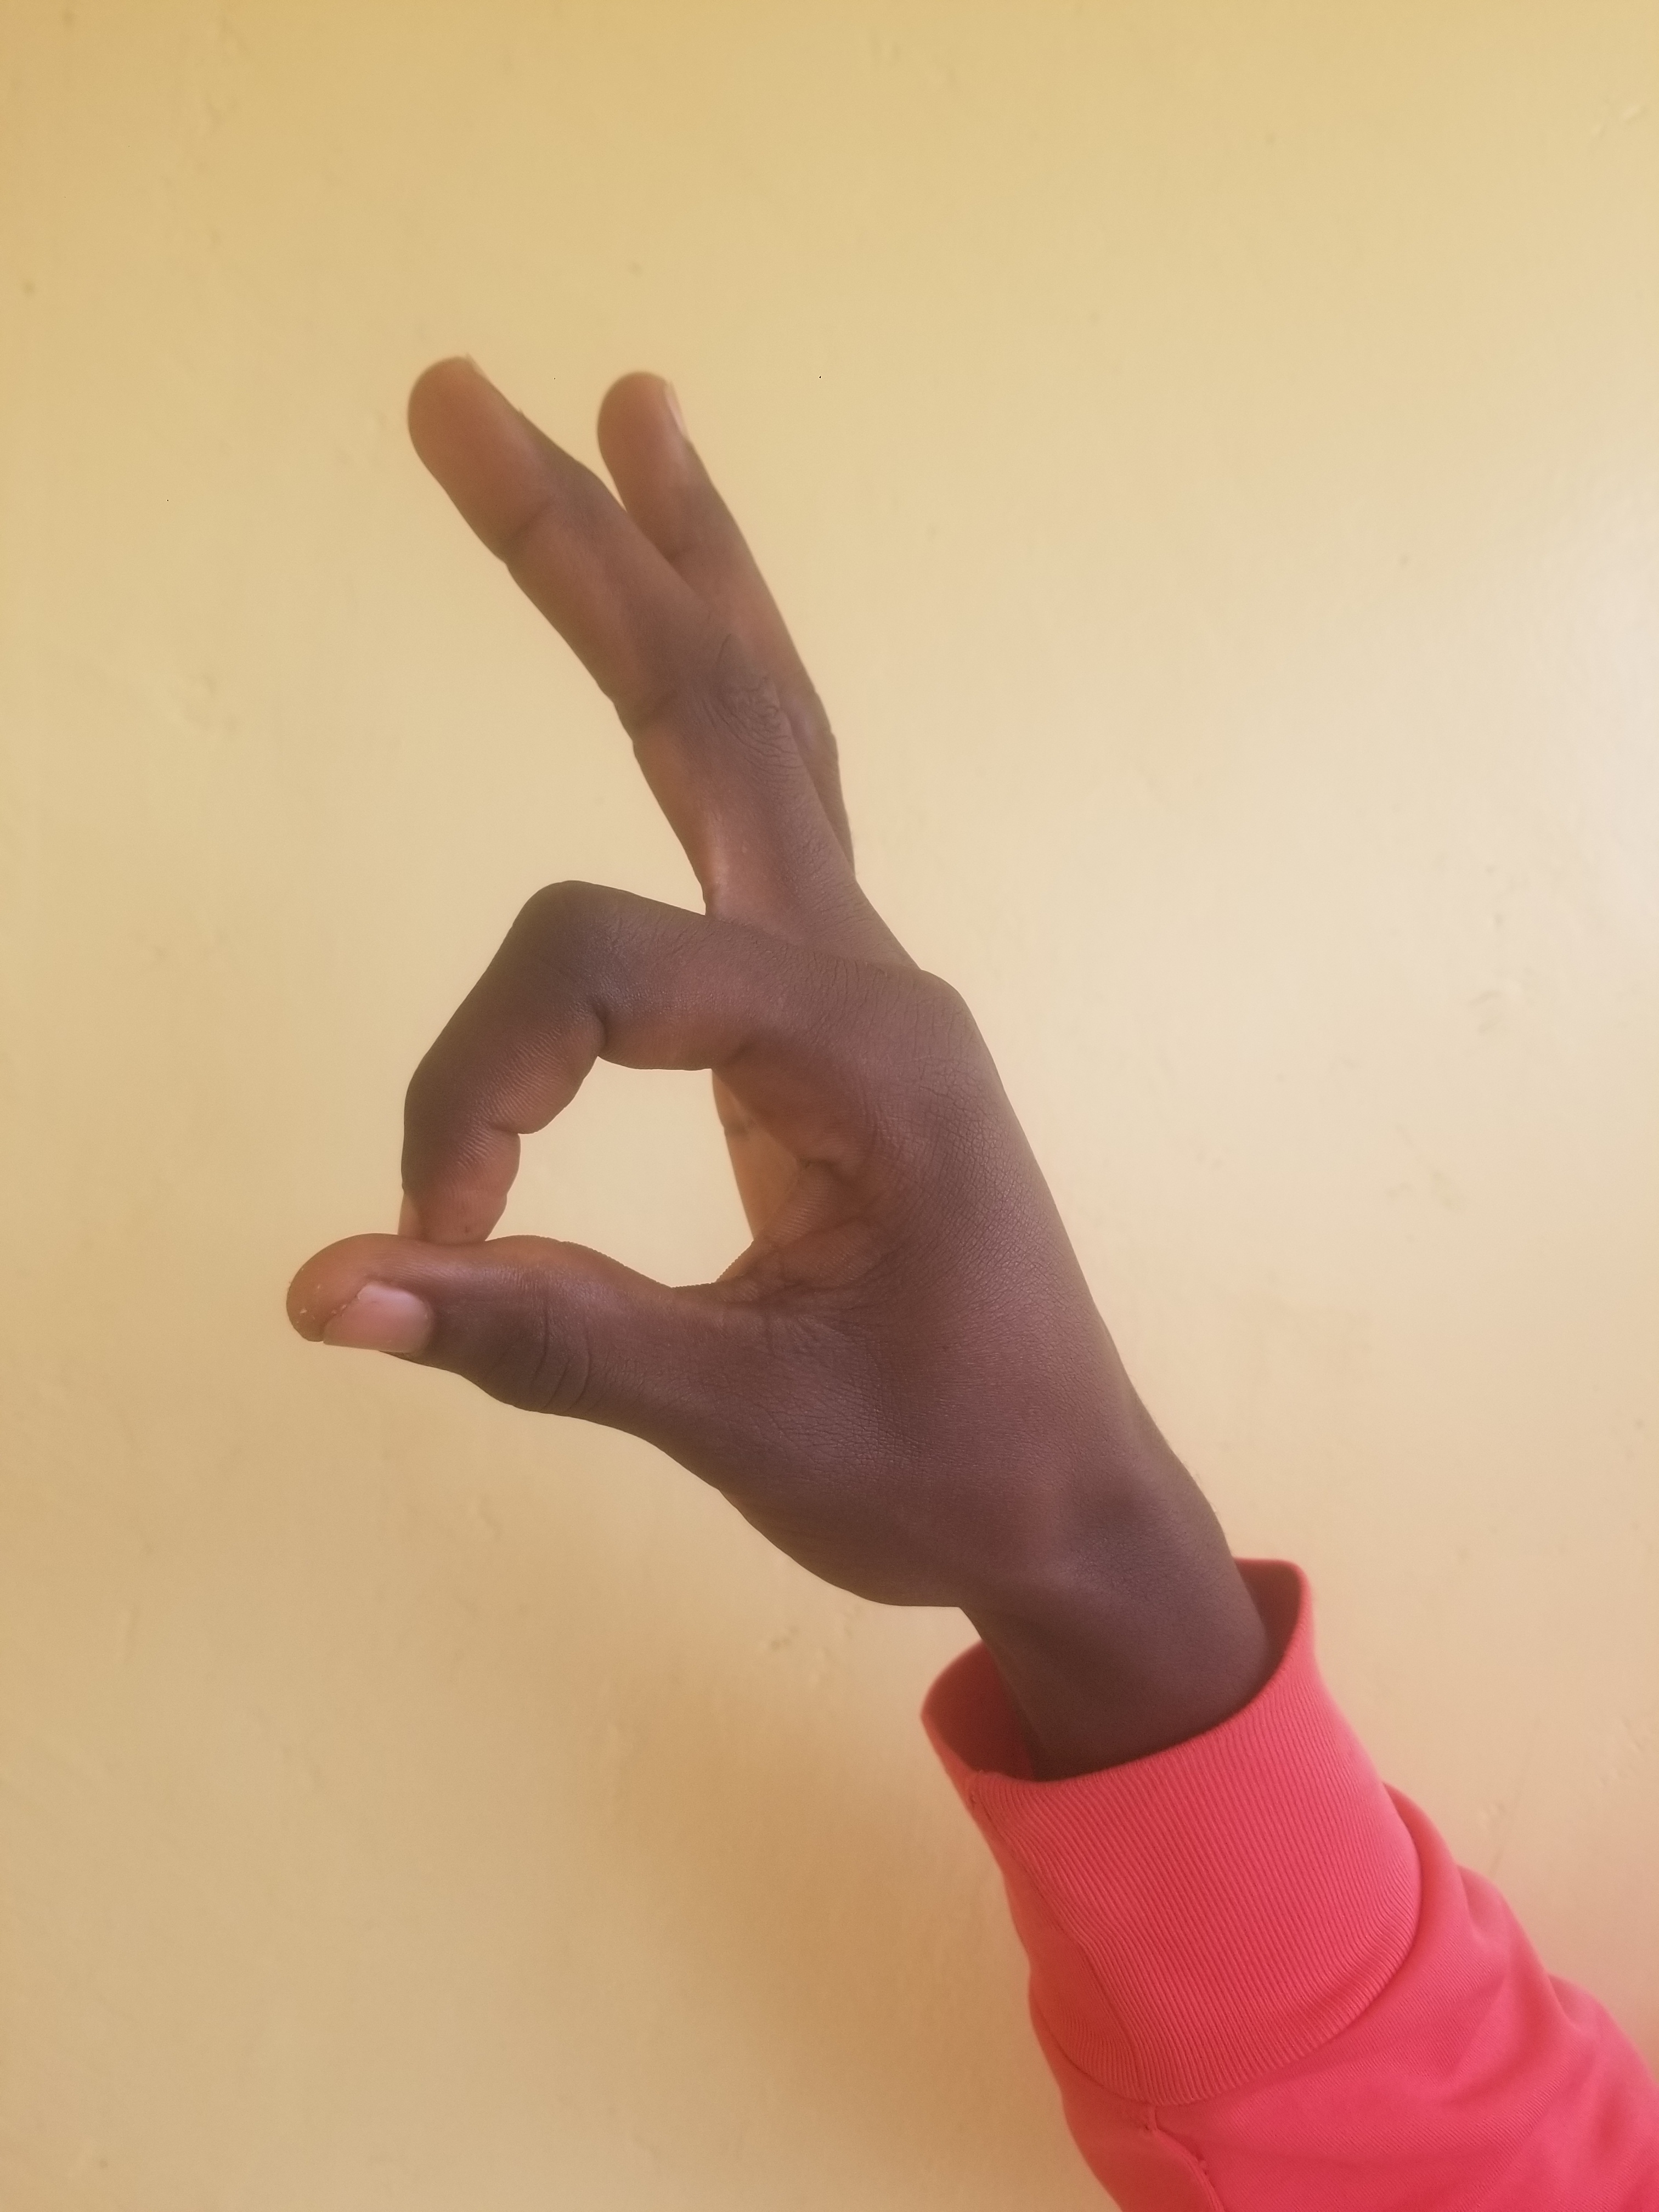ok: (183, 261, 1304, 1714)
